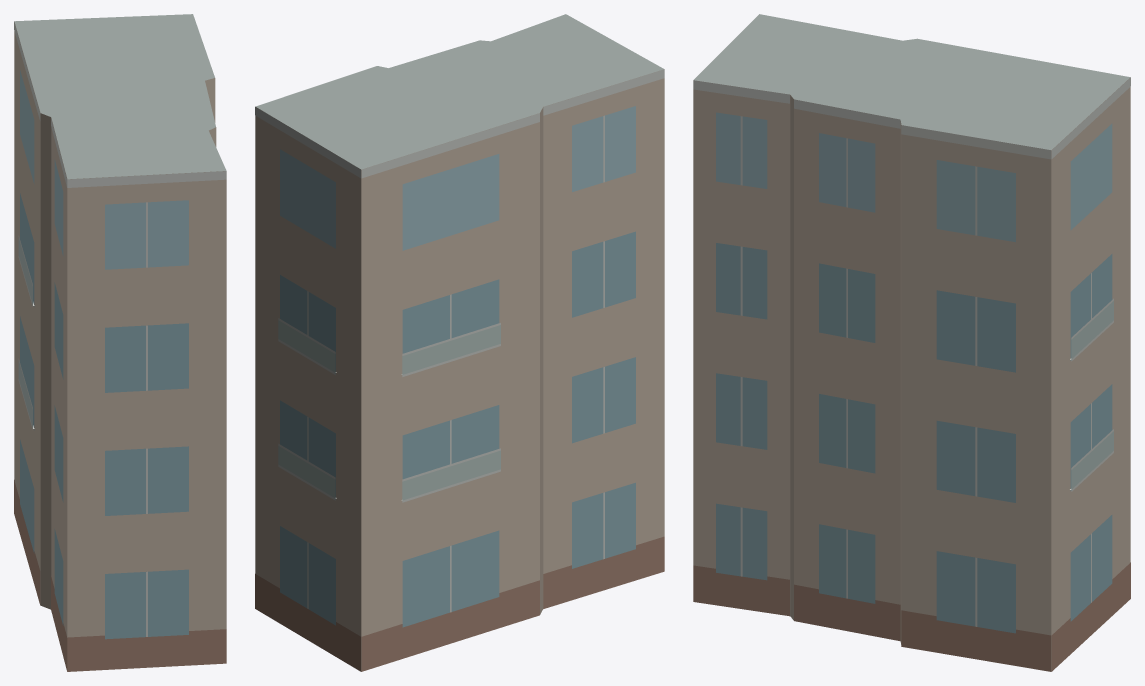
The model's file is survey-upis-32461068.glb.
The picture shows the model from 3 angles, left to right: view 1: azimuth 30°, elevation 25°; view 2: azimuth 150°, elevation 25°; view 3: azimuth 270°, elevation 25°; orthographic projection. The views are drawn at different scales.
Visible parts, largest first — view 1: survey-upis-32461068.tmp; view 2: survey-upis-32461068.tmp; view 3: survey-upis-32461068.tmp.
Part boxes in pixels (x1,y1,x2,y2): survey-upis-32461068.tmp: (14,14,226,671); survey-upis-32461068.tmp: (255,14,664,671); survey-upis-32461068.tmp: (693,14,1130,671).
Bounding box in the file's own units: 7.68 × 13.7 × 10.42.
